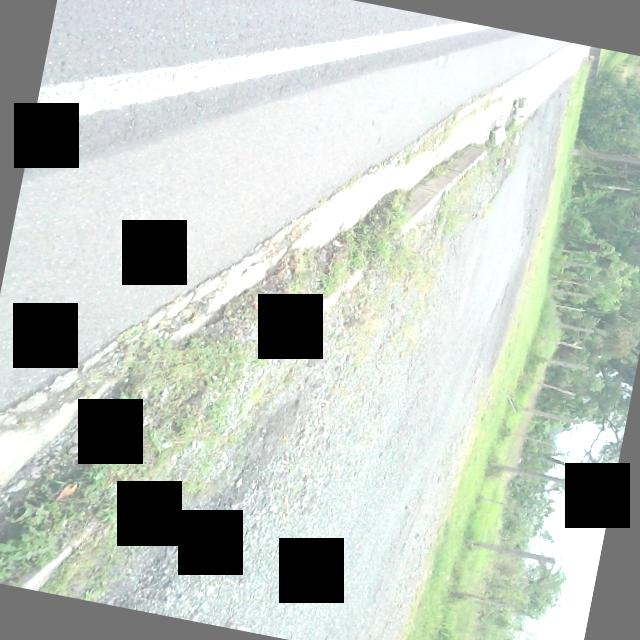DITCH: (0, 0, 583, 640), (0, 0, 561, 640), (0, 0, 557, 640)
